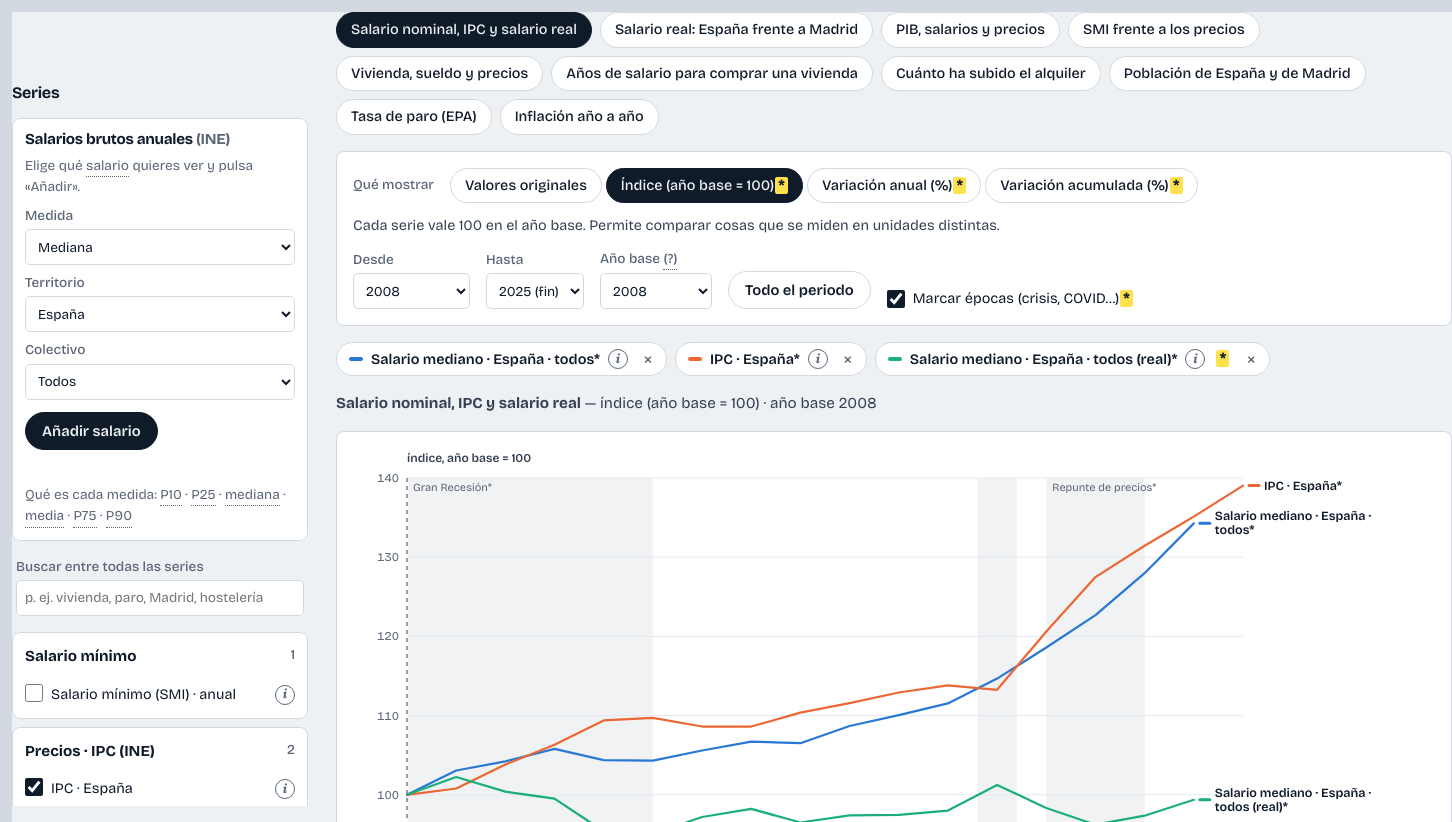
Scenario: Ayuda contextual › un término del glosario abre su ficha y marca lo calculado con *
Hover over the button "(?)" at x=670, y=260, box x1=664 y1=249 x2=678 y2=270
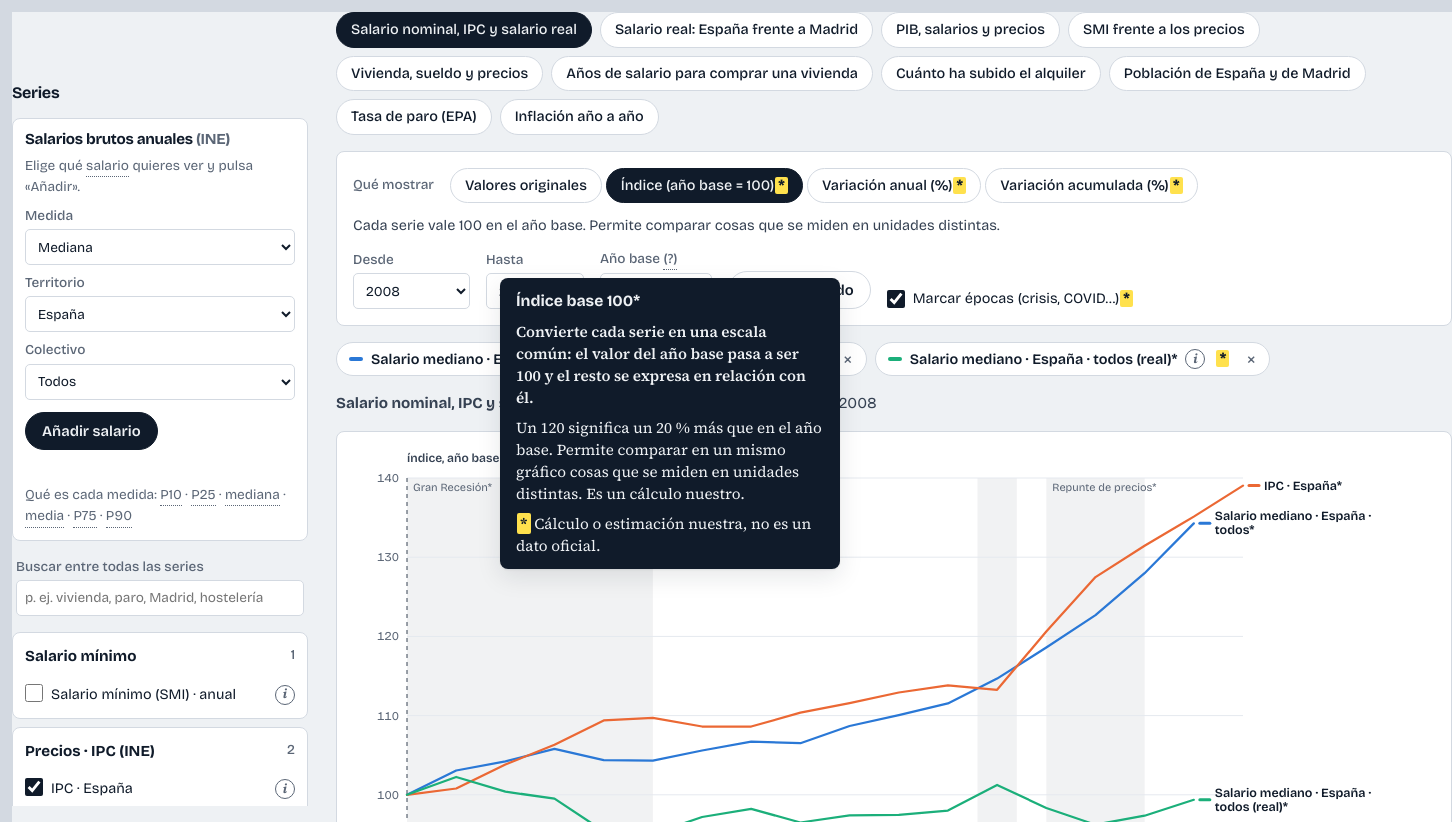
Result: the tooltip shows "Índice base 100*" at x1=516 y1=291 x2=640 y2=310
Result: the tooltip shows "Cálculo o estimación nuestra" at x1=516 y1=513 x2=811 y2=556
